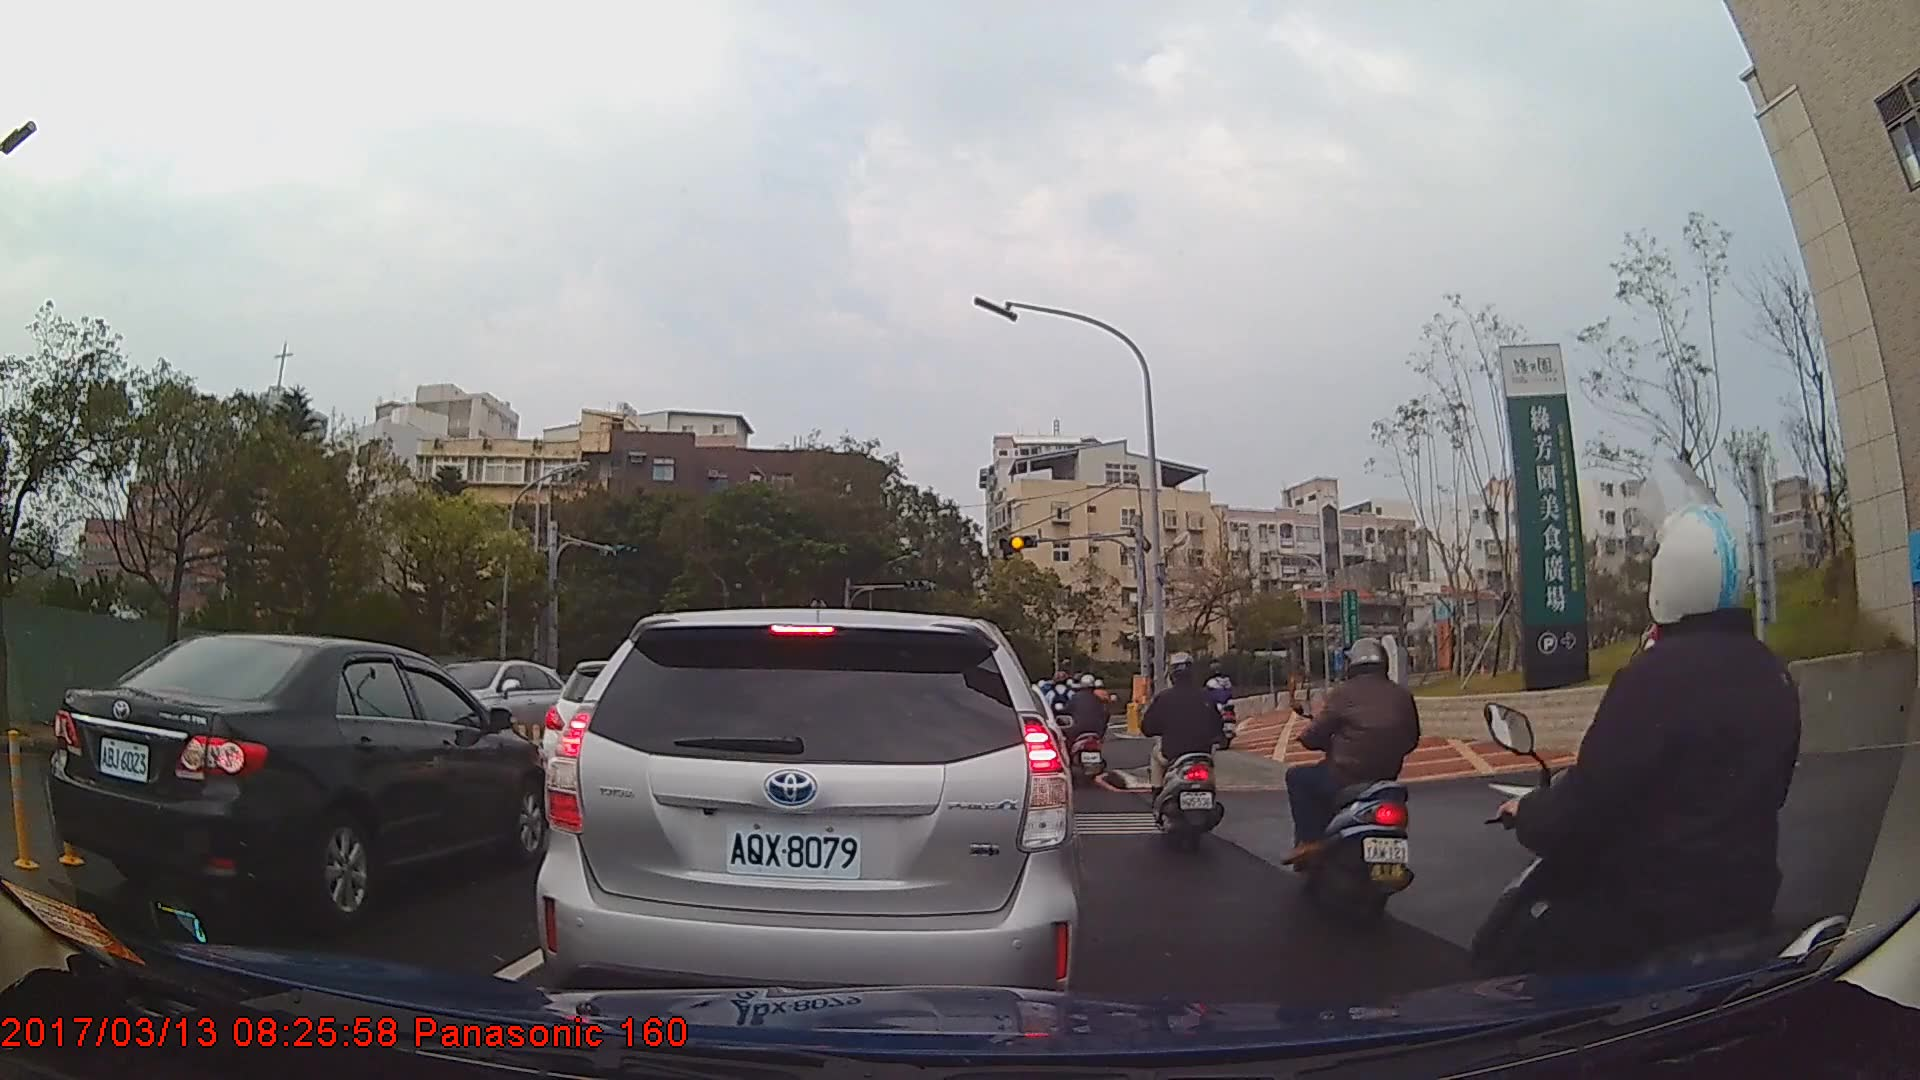rider: (1470, 499, 1868, 1080), (1284, 637, 1427, 929), (1141, 648, 1229, 858), (1069, 673, 1111, 791), (1202, 663, 1237, 754)
vehicle: (534, 606, 1078, 1022), (48, 631, 556, 924), (428, 659, 565, 753)
